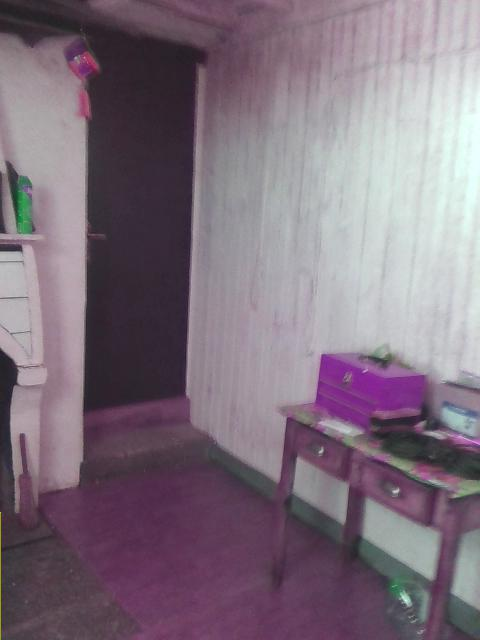closed_door: (84, 22, 204, 416)
